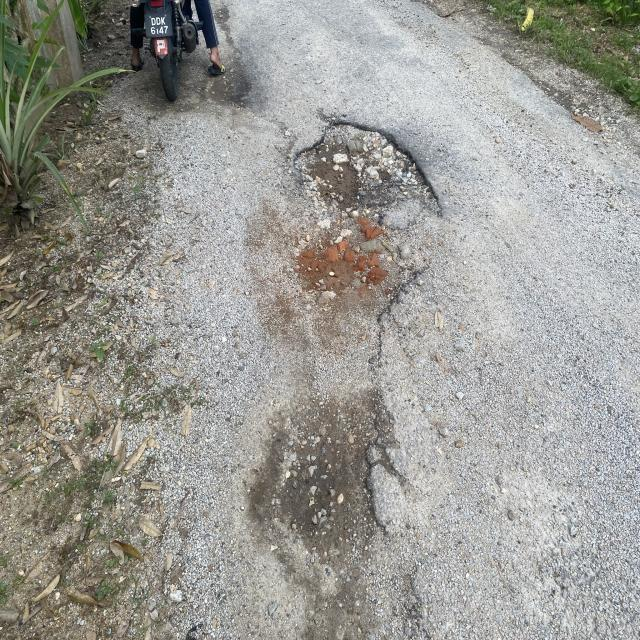Pothole: (190, 353, 418, 594), (276, 84, 468, 294)
